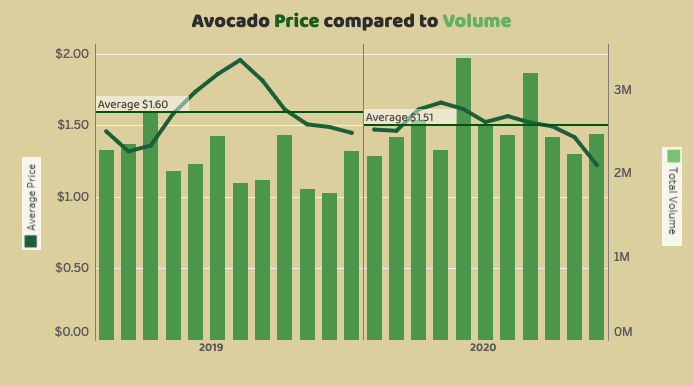

Layout of this report page (visuals, bound fields, positions):
{"tool":"tableau","page":{"name":"Dashboard - Average Prices","canvas":[1016,964],"ordinal":0},"visuals":[{"type":"worksheet","param":"Image/Cado_Creations_logo.png","box":[1,9,587,176]},{"type":"worksheet","box":[816,32,164,52]}]}

Visuals, with their boxes on the page's 1016x964 design canvas (x1, y1, x2, y2). These are canvas units, not pixel positions in the 693x386 screenshot, which may show the page scaled, cropped or inside an application window:
worksheet: bbox=[1, 9, 588, 185]
worksheet: bbox=[816, 32, 980, 84]
